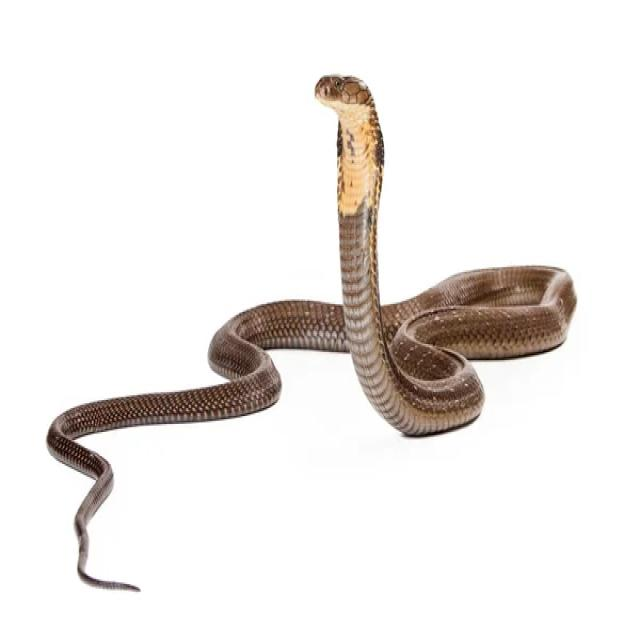Venomous: (306, 66, 399, 187)
